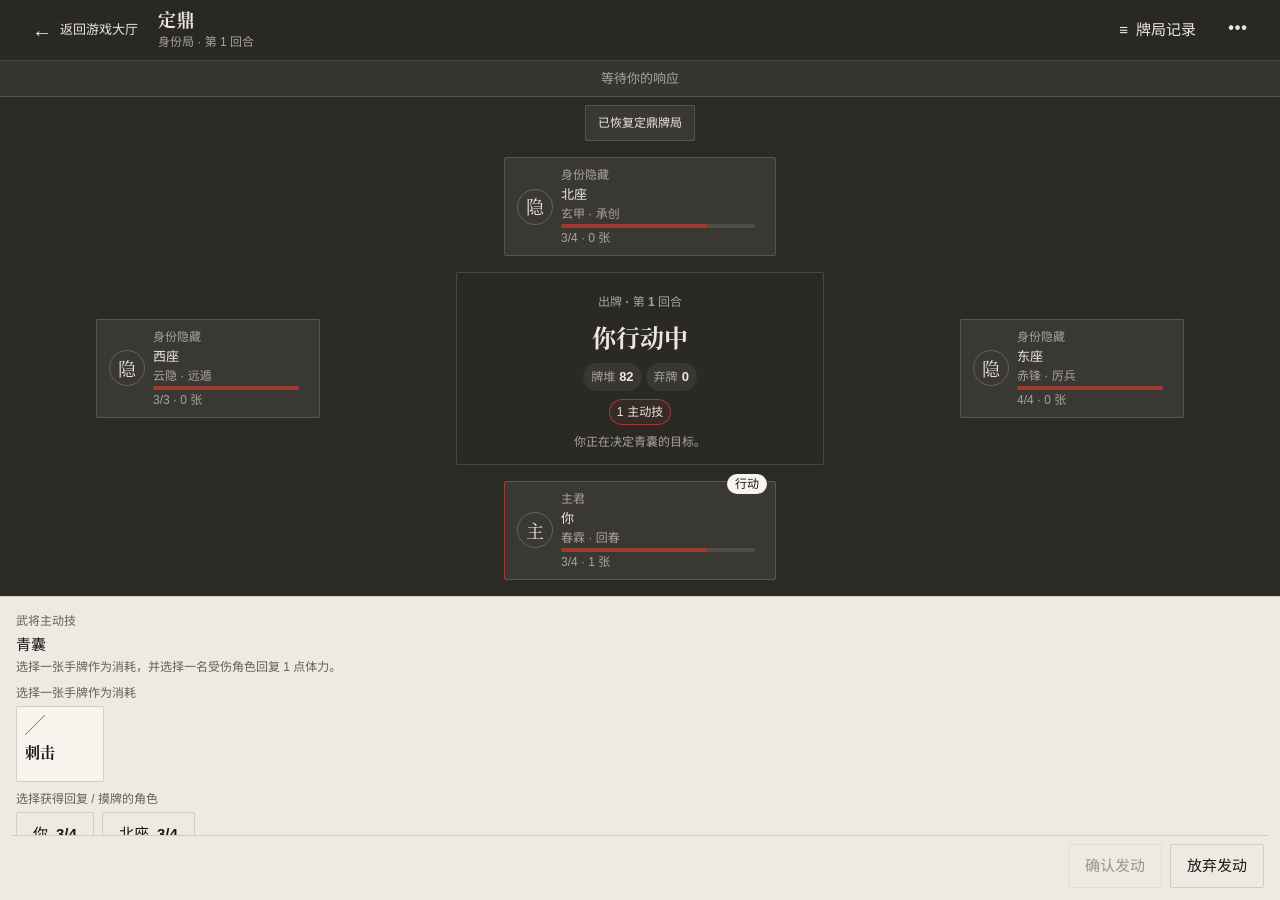
Test: DingDingGame active skill flow › resolves a restored 青囊 decision by choosing a cost card and target
Click the button with aria-label "选择「刺击」作为技能消耗" at (60, 744), box [16, 706, 104, 782]
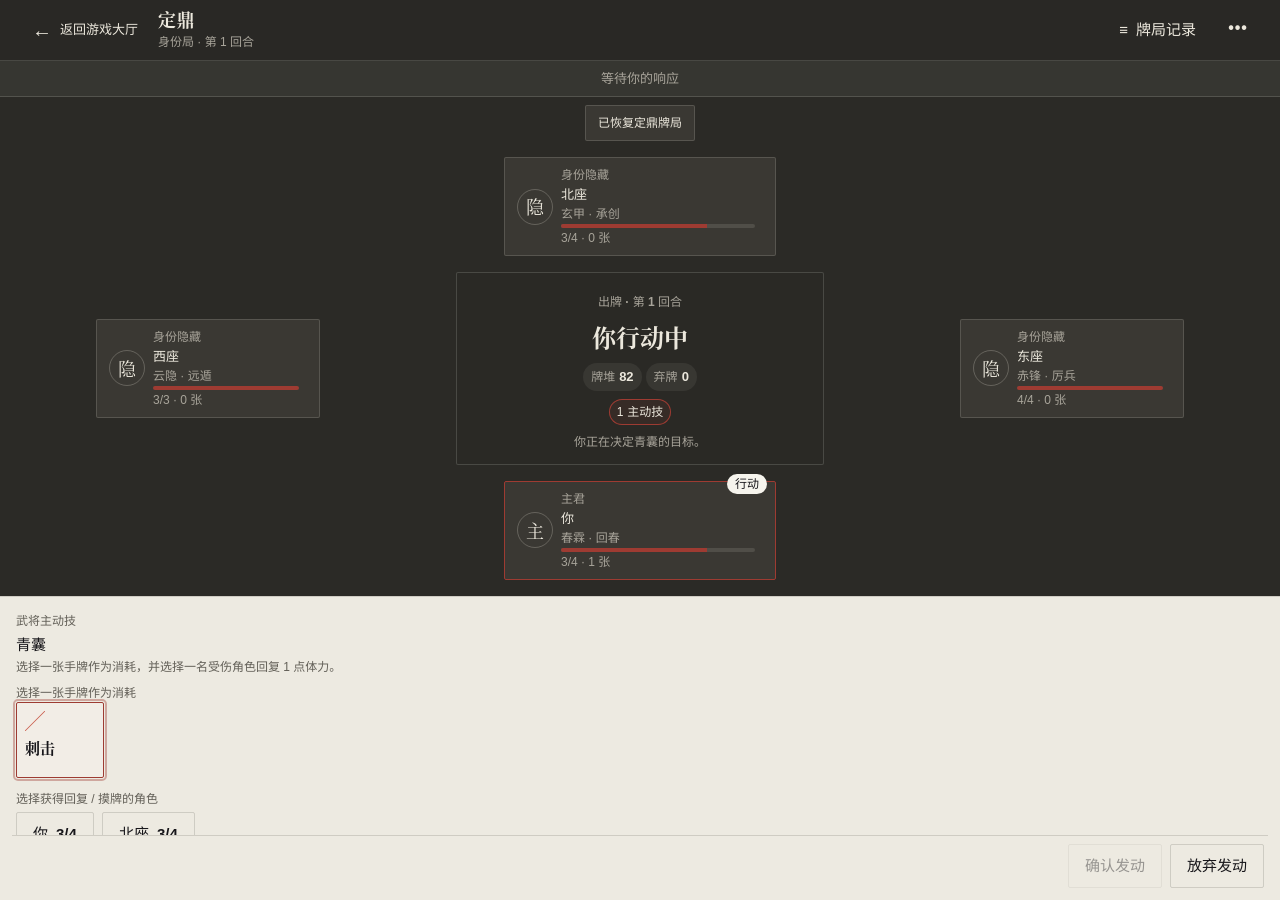
Click the button named "选择你作为技能目标" at (55, 834), box [16, 812, 94, 856]
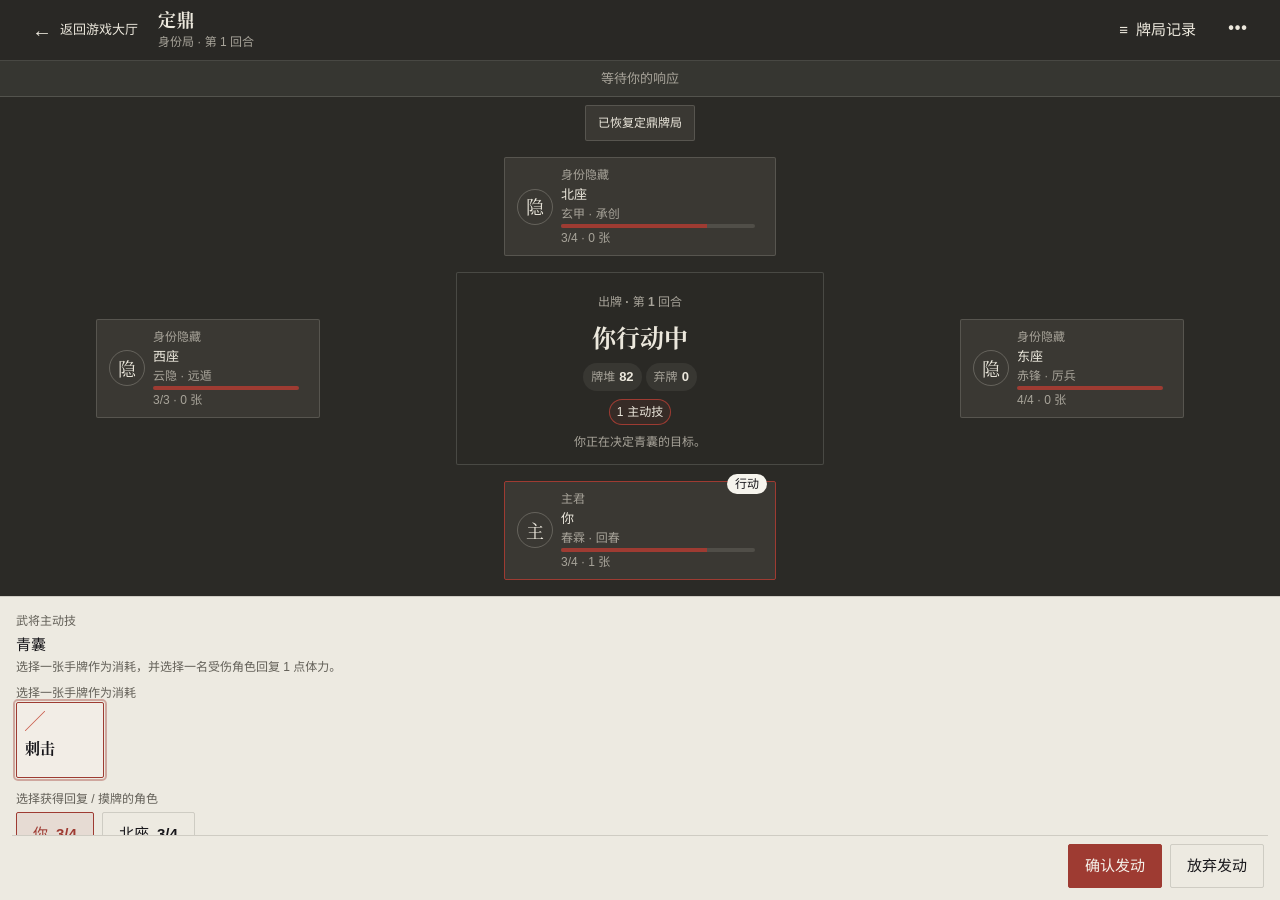
Click the button "确认发动" at (1115, 866), box [1068, 844, 1162, 888]
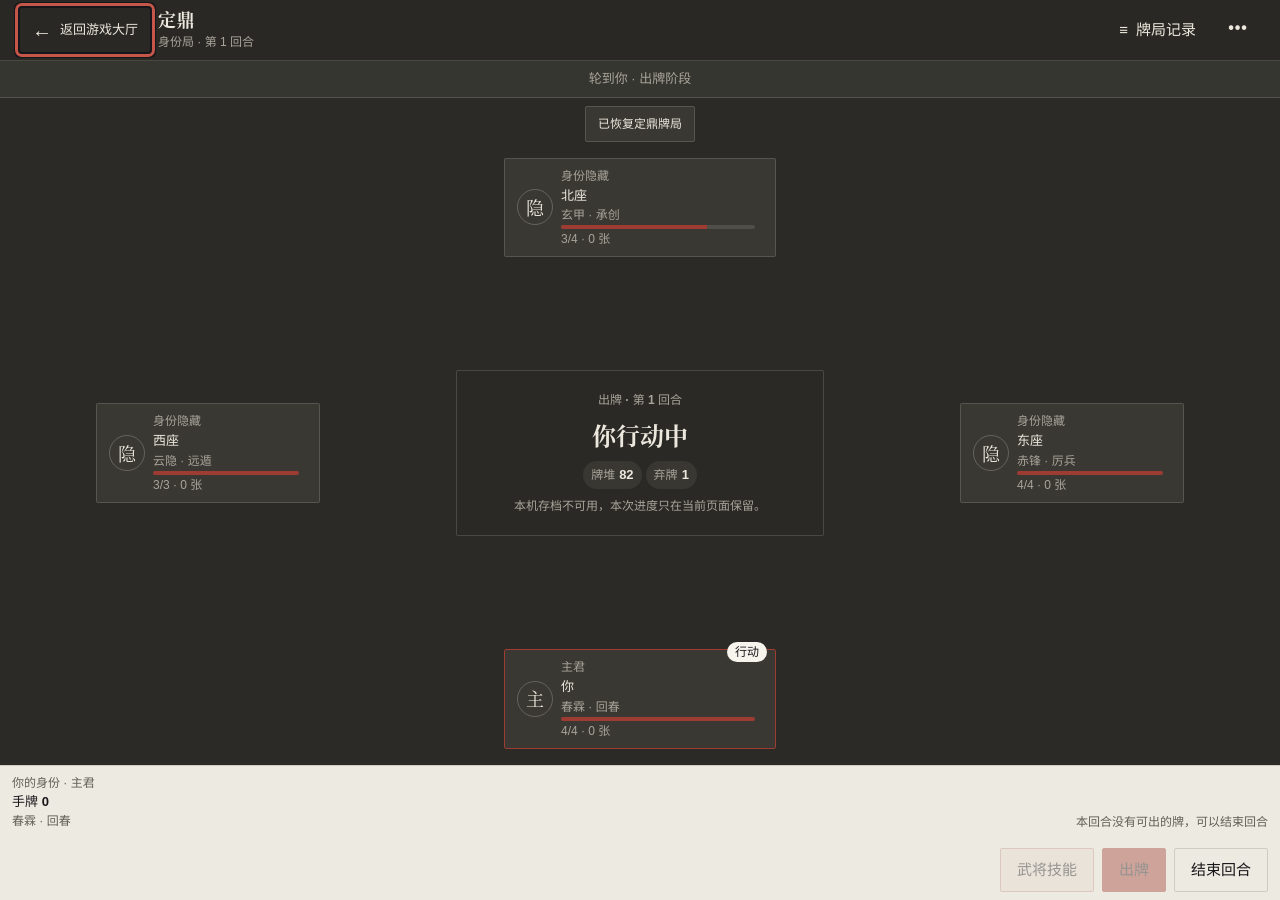
Now the button "确认发动" is gone
Now the button "武将技能" is disabled, box [1000, 848, 1094, 892]
